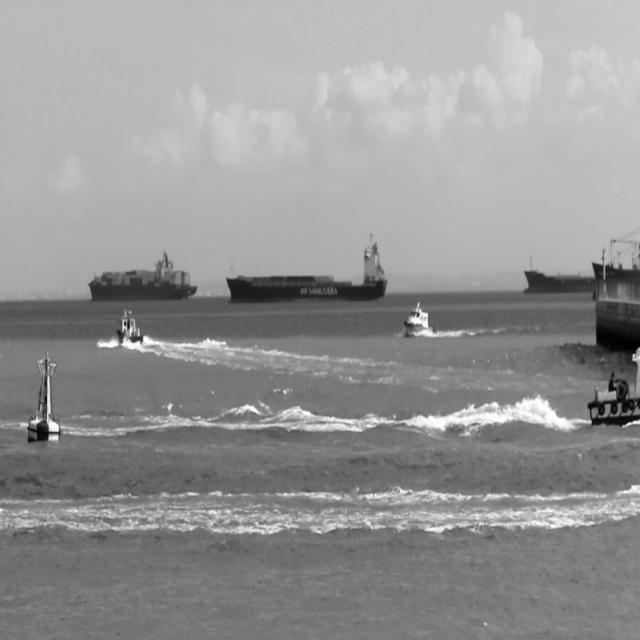buoy: (26, 347, 62, 440)
ship: (225, 230, 388, 304), (88, 247, 198, 302), (586, 346, 639, 428), (523, 254, 595, 294), (114, 304, 144, 344), (403, 302, 436, 336)
